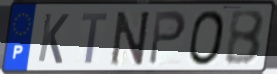B: (223, 9, 267, 67)
K: (36, 11, 71, 66)
N: (108, 9, 152, 67)
O: (188, 9, 228, 68)
P: (146, 9, 188, 67)
T: (80, 11, 110, 65)
